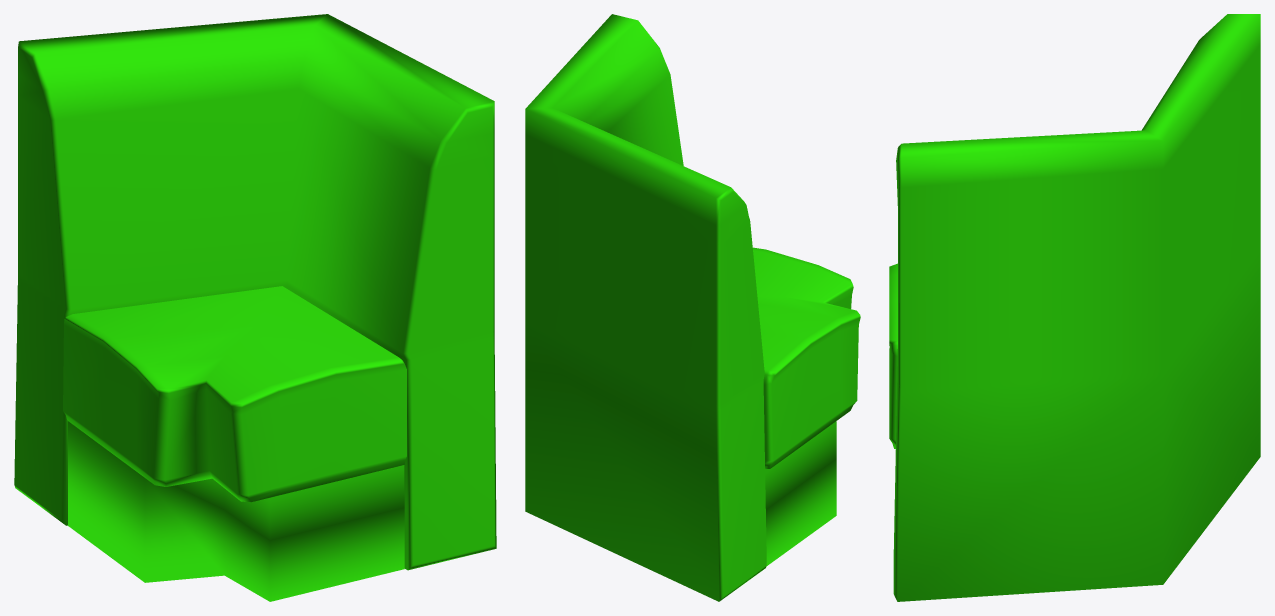
Rendered from Restaurant_Sofa_01_Corner_Lod0.fbx.
The picture shows the model from 3 angles, left to right: view 1: azimuth 30°, elevation 25°; view 2: azimuth 150°, elevation 25°; view 3: azimuth 270°, elevation 25°; orthographic projection. The views are drawn at different scales.
Visible parts, largest first — view 1: Restaurant_Sofa_01_Corner_Lod0; view 2: Restaurant_Sofa_01_Corner_Lod0; view 3: Restaurant_Sofa_01_Corner_Lod0.
Part boxes in pixels (x1,y1,x2,y2): Restaurant_Sofa_01_Corner_Lod0: (14, 14, 496, 601); Restaurant_Sofa_01_Corner_Lod0: (525, 14, 860, 601); Restaurant_Sofa_01_Corner_Lod0: (889, 14, 1260, 601).
Bounding box in the file's own units: 63.57 × 89.07 × 67.07.
